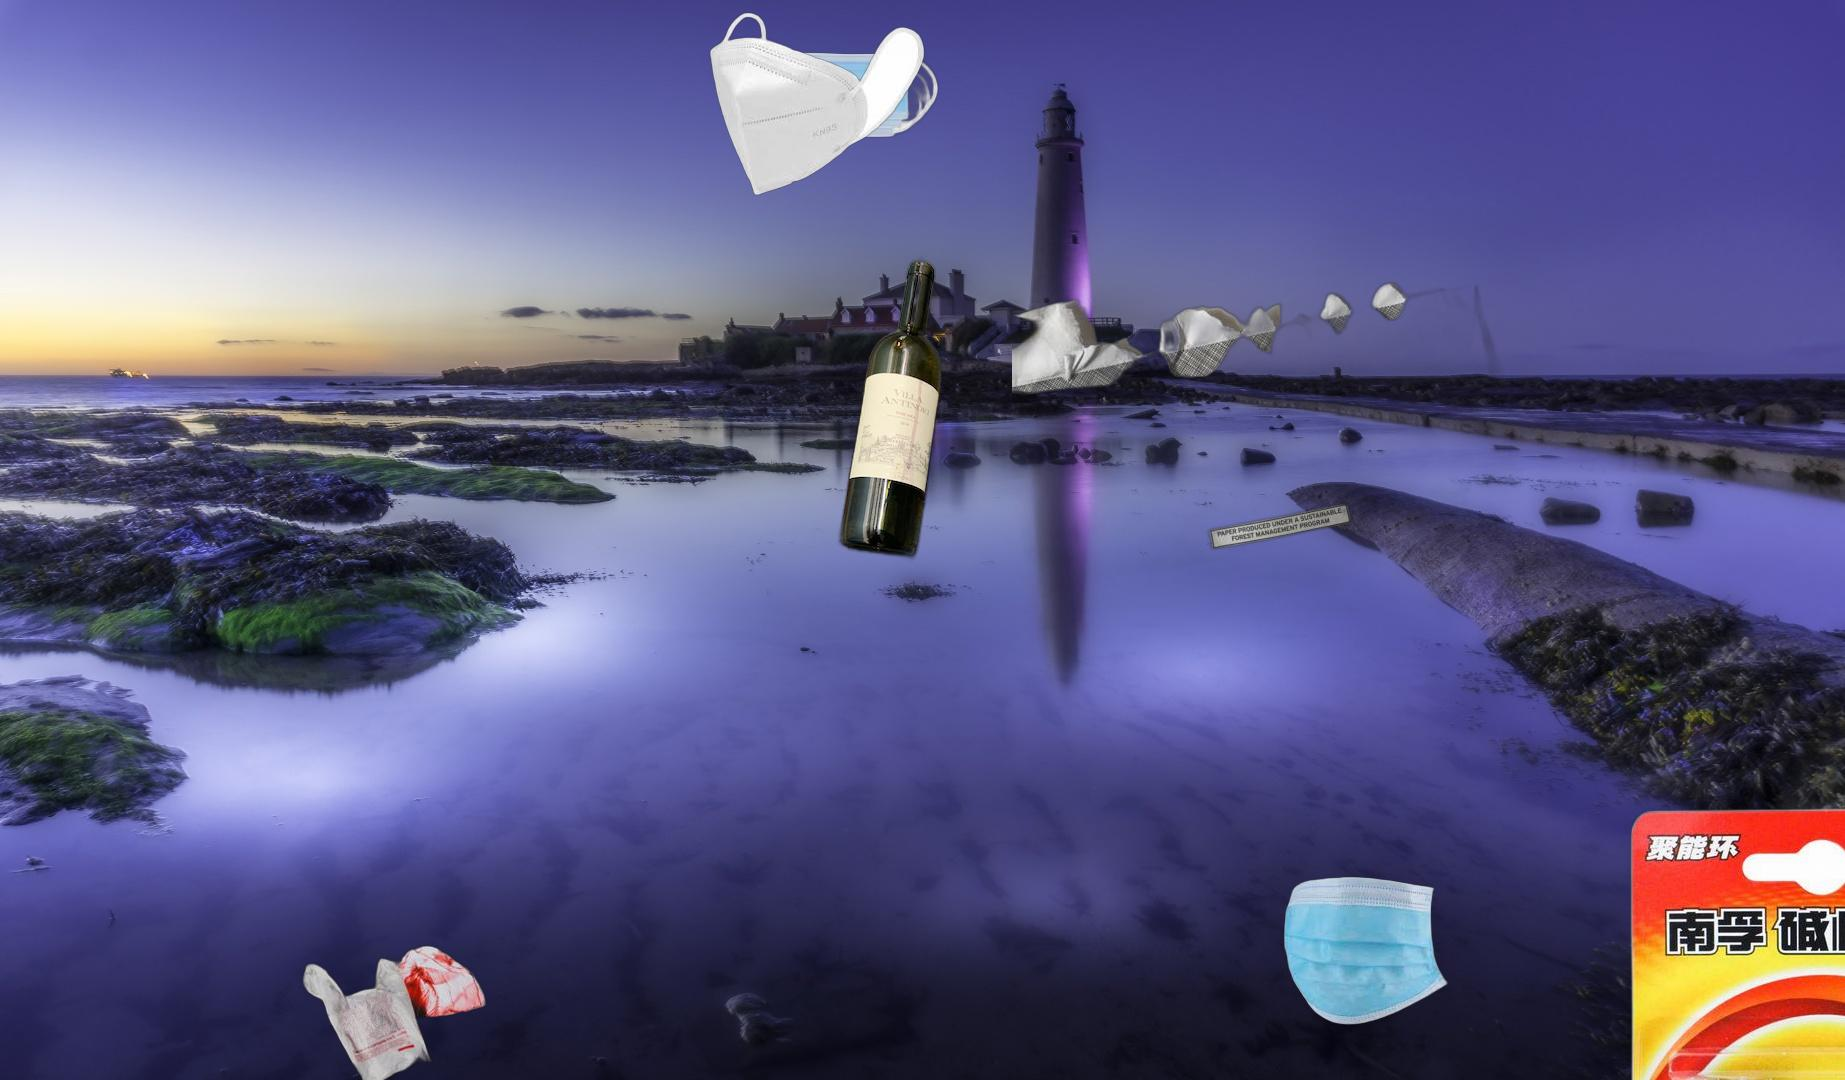battery: (1626, 804, 1845, 1080)
glass: (834, 255, 946, 564)
paper: (1012, 279, 1524, 600)
plastic-bag: (300, 942, 490, 1080)
trash: (707, 10, 927, 198), (1281, 874, 1452, 1029), (732, 49, 941, 140)
